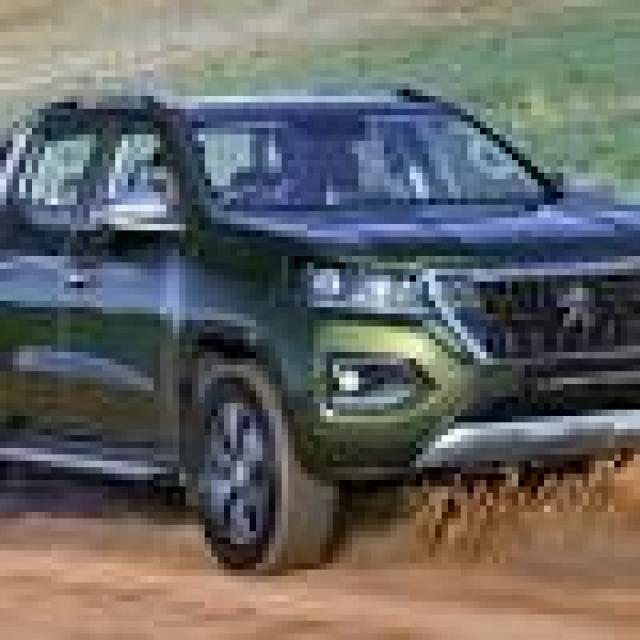Pickup Trucks: (6, 90, 634, 563)
